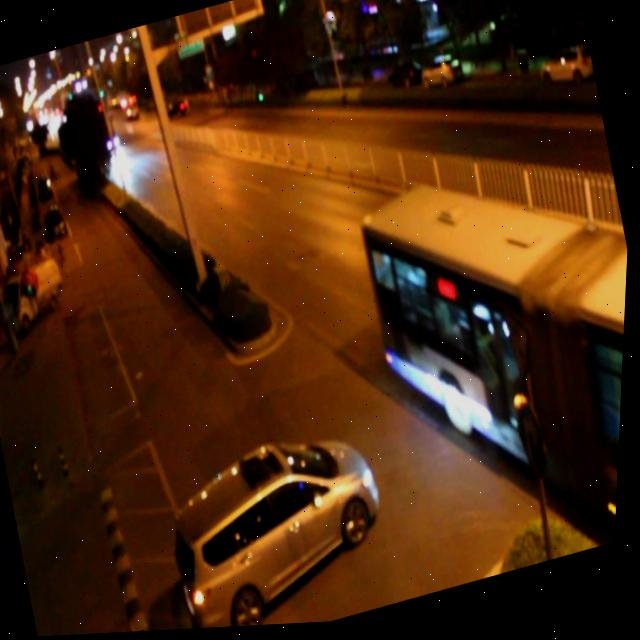car: (163, 419, 404, 632), (568, 250, 630, 354)
van: (342, 147, 634, 603)
